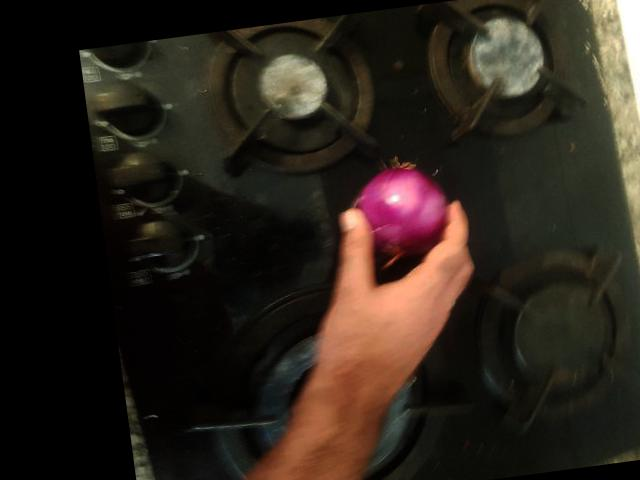onion: (474, 80, 574, 182)
